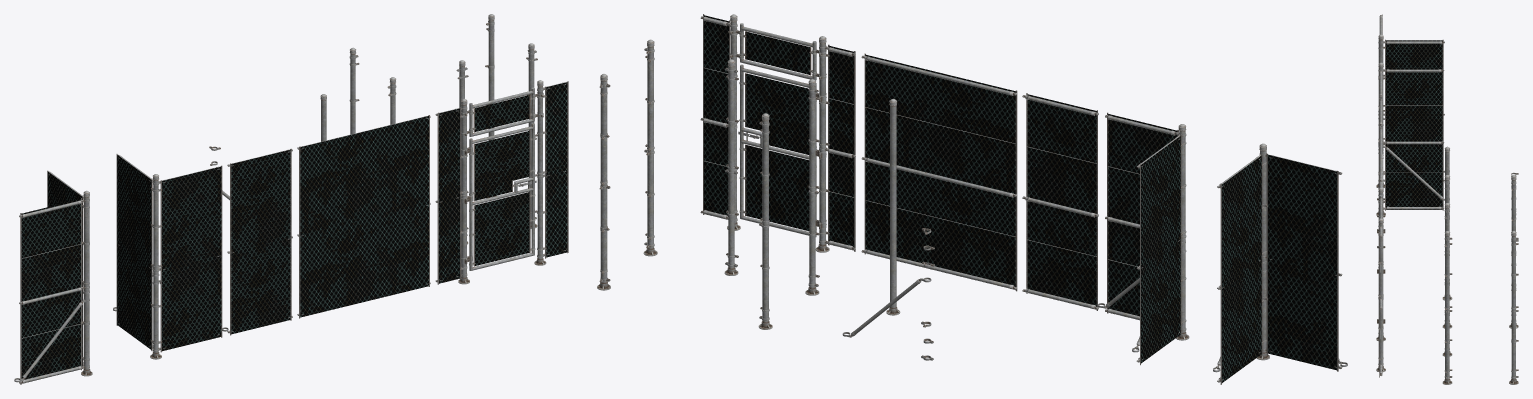
The model's file is modular_chainlink_fence.glb.
3 views of the same model, side by side, from view 1: azimuth 30°, elevation 25°; view 2: azimuth 150°, elevation 25°; view 3: azimuth 270°, elevation 25° (orthographic). The views are drawn at different scales.
Visible parts, largest first — view 1: modular_chainlink_fence_double, modular_chainlink_fence_corner_outer, modular_chainlink_fence_door_frame, modular_chainlink_fence_corner_inner, modular_chainlink_fence, modular_chainlink_fence_door_gate, modular_chainlink_fence_start_01_corner_02, modular_chainlink_fence_start_01_corner_01, modular_chainlink_fence_end_02; view 2: modular_chainlink_fence_double, modular_chainlink_fence_corner_inner, modular_chainlink_fence_corner_outer, modular_chainlink_fence_door_frame, modular_chainlink_fence, modular_chainlink_fence_door_gate, modular_chainlink_fence_start_01_corner_02, modular_chainlink_post_middle, modular_chainlink_fence_end_01, modular_chainlink_fence_start_01_corner_01, modular_chainlink_fence_end_02, modular_chainlink_fence_post; view 3: modular_chainlink_fence_corner_outer, modular_chainlink_fence_corner_inner, modular_chainlink_fence_door_frame, modular_chainlink_fence_start_01_corner_01, modular_chainlink_fence_start_01_corner_02, modular_chainlink_fence_end_02, modular_chainlink_fence_double, modular_chainlink_fence_end_01, modular_chainlink_post_middle, modular_chainlink_fence_post.
Part boxes in pixels (bbox=[...]): modular_chainlink_fence_double: bbox=[297, 115, 430, 318]; modular_chainlink_fence_corner_outer: bbox=[113, 154, 228, 359]; modular_chainlink_fence_door_frame: bbox=[435, 80, 568, 284]; modular_chainlink_fence_corner_inner: bbox=[14, 170, 92, 384]; modular_chainlink_fence: bbox=[227, 148, 292, 335]; modular_chainlink_fence_door_gate: bbox=[469, 123, 535, 270]; modular_chainlink_fence_start_01_corner_02: bbox=[485, 14, 496, 198]; modular_chainlink_fence_start_01_corner_01: bbox=[526, 43, 537, 228]; modular_chainlink_fence_end_02: bbox=[349, 47, 359, 134]; modular_chainlink_fence_double: bbox=[861, 53, 1017, 291]; modular_chainlink_fence_corner_inner: bbox=[1213, 143, 1347, 384]; modular_chainlink_fence_corner_outer: bbox=[1097, 112, 1189, 365]; modular_chainlink_fence_door_frame: bbox=[700, 14, 855, 252]; modular_chainlink_fence: bbox=[1022, 93, 1098, 310]; modular_chainlink_fence_door_gate: bbox=[739, 64, 816, 236]; modular_chainlink_fence_start_01_corner_02: bbox=[597, 74, 610, 290]; modular_chainlink_post_middle: bbox=[724, 59, 738, 275]; modular_chainlink_fence_end_01: bbox=[805, 79, 819, 295]; modular_chainlink_fence_start_01_corner_01: bbox=[643, 39, 657, 256]; modular_chainlink_fence_end_02: bbox=[758, 113, 772, 329]; modular_chainlink_fence_post: bbox=[886, 98, 900, 315]; modular_chainlink_fence_corner_outer: bbox=[1376, 62, 1449, 233]; modular_chainlink_fence_corner_inner: bbox=[1376, 14, 1449, 188]; modular_chainlink_fence_door_frame: bbox=[1376, 182, 1385, 377]; modular_chainlink_fence_start_01_corner_01: bbox=[1442, 231, 1452, 384]; modular_chainlink_fence_start_01_corner_02: bbox=[1509, 231, 1518, 384]; modular_chainlink_fence_end_02: bbox=[1509, 175, 1518, 328]; modular_chainlink_fence_double: bbox=[1379, 126, 1382, 183]; modular_chainlink_fence_end_01: bbox=[1442, 175, 1452, 328]; modular_chainlink_post_middle: bbox=[1442, 203, 1452, 356]; modular_chainlink_fence_post: bbox=[1442, 146, 1452, 300].
Size of the model in its own units: 8.12 by 2.52 by 2.15.
Materials: 2 (2 with a texture image).
